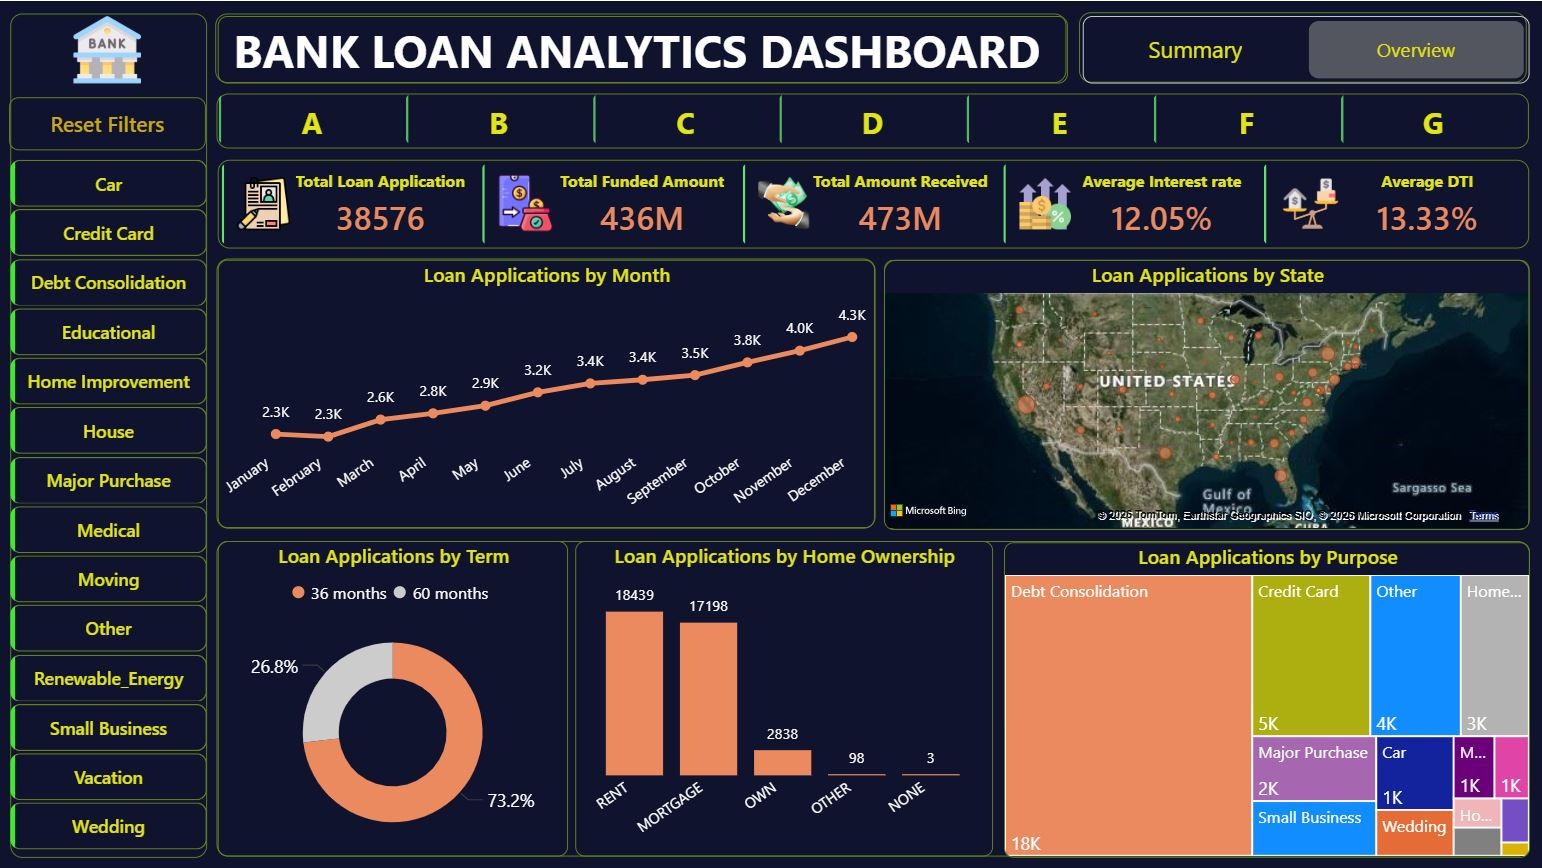

The page's visual inventory and layout, read from the dashboard file:
{"tool":"powerbi","page":{"name":"Overview","canvas":[1280,720],"ordinal":1},"visuals":[{"type":"shape","box":[9.1,10.2,163.3,699.8],"z":0},{"type":"shape","box":[179.8,10.8,705.9,57.5],"z":1000},{"type":"shape","box":[180.3,77.1,1087.7,45.4],"z":2000},{"type":"shape","box":[895.3,9.6,371.5,58.7],"z":3000},{"type":"shape","box":[180.7,132.1,1086.8,74.8],"z":4000},{"type":"shape","box":[180,213.3,546.1,224],"z":5000},{"type":"shape","box":[180,447.7,1089.1,261.7],"z":6000},{"type":"shape","box":[733.6,214.8,535.5,224],"z":7000},{"type":"advancedSlicerVisual","fields":{"Values":["financial_loan.PURPOSE"]},"box":[9.1,131.6,163.3,577.3],"z":8000},{"type":"advancedSlicerVisual","fields":{"Values":["financial_loan.GRADE"]},"box":[180.9,76.8,1086.7,43.4],"z":9000},{"type":"image","box":[14.9,12.4,149.9,55.8],"z":10000},{"type":"cardVisual","fields":{"Data":["financial_loan.Total Loan Application","financial_loan.Total Funded Amount","financial_loan.Total Amount Received","financial_loan.Average Interest rate","financial_loan.Average DTI"]},"box":[181.3,131.6,1087.1,73.6],"z":11000},{"type":"actionButton","box":[8.7,79.3,163.6,44],"z":12000},{"type":"donutChart","title":"Loan Applications by Term","fields":{"Category":["financial_loan.TERM"],"Y":["financial_loan.Total Loan Application"]},"box":[181.5,447.7,290.4,261.7],"z":13000},{"type":"columnChart","title":"Loan Applications by Home Ownership","fields":{"Category":["financial_loan.HOME_OWNERSHIP"],"Y":["financial_loan.Total Loan Application"]},"box":[478,447.7,346,261.7],"z":14000},{"type":"treemap","title":"Loan Applications by Purpose","fields":{"Group":["financial_loan.PURPOSE"],"Values":["financial_loan.Total Loan Application"]},"box":[833,448.2,436.3,261.3],"z":15000},{"type":"lineChart","title":"Loan Applications by Month","fields":{"Category":["financial_loan.ISSUE_DATE.Variation.Date Hierarchy.Month"],"Y":["financial_loan.Total Loan Application"]},"box":[181.5,214.8,544.6,222.4],"z":16000},{"type":"map","title":"Loan Applications by State","fields":{"Category":["financial_loan.ADDRESS_STATE"],"Size":["financial_loan.Total Loan Application"]},"box":[733.6,214.8,535.5,223.9],"z":17000},{"type":"textbox","box":[181,12,704.7,56.3],"z":18000},{"type":"pageNavigator","box":[898.9,12,370.3,56.3],"z":19000}]}

Visuals, with their boxes in screenshot pixels (x1, y1, x2, y2), scaled from the page's 1280x720 canvas onto the 1542x868 screenshot:
shape: BBox(11, 12, 208, 856)
shape: BBox(217, 13, 1067, 82)
shape: BBox(217, 93, 1528, 148)
shape: BBox(1079, 12, 1526, 82)
shape: BBox(218, 159, 1527, 249)
shape: BBox(217, 257, 875, 527)
shape: BBox(217, 540, 1529, 855)
shape: BBox(884, 259, 1529, 529)
advancedSlicerVisual - financial_loan.PURPOSE: BBox(11, 159, 208, 855)
advancedSlicerVisual - financial_loan.GRADE: BBox(218, 93, 1527, 145)
image: BBox(18, 15, 199, 82)
cardVisual - financial_loan.Total Loan Application x financial_loan.Total Funded Amount: BBox(218, 159, 1528, 247)
actionButton: BBox(10, 96, 208, 149)
"Loan Applications by Term" donutChart: BBox(219, 540, 568, 855)
"Loan Applications by Home Ownership" columnChart: BBox(576, 540, 993, 855)
"Loan Applications by Purpose" treemap: BBox(1004, 540, 1529, 855)
"Loan Applications by Month" lineChart: BBox(219, 259, 875, 527)
"Loan Applications by State" map: BBox(884, 259, 1529, 529)
textbox: BBox(218, 14, 1067, 82)
pageNavigator: BBox(1083, 14, 1529, 82)
